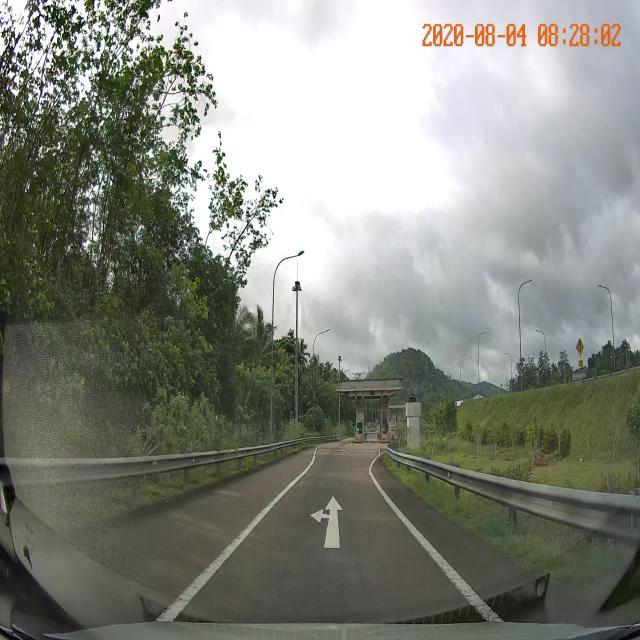forward_lft: (221, 484, 449, 562)
